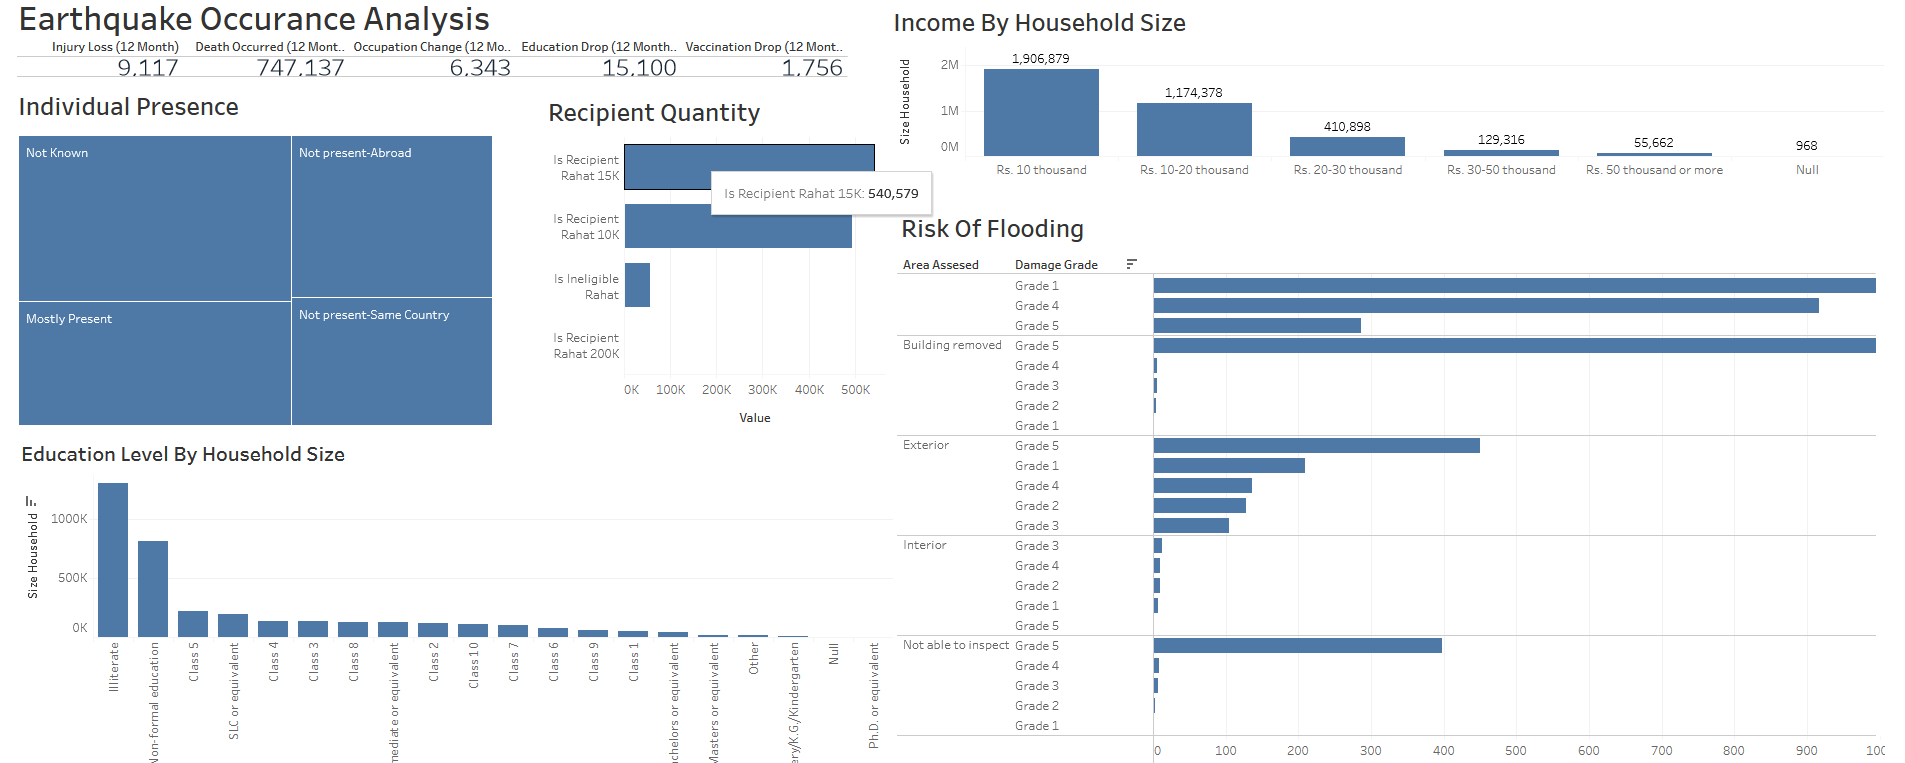

The page's visual inventory and layout, read from the dashboard file:
{"tool":"tableau","page":{"name":"Dashboard 1","canvas":[1000,1000],"units":"permille","ordinal":0},"visuals":[{"type":"worksheet","title":"Sheet 2","mark":"Automatic","rows":["size_household"],"cols":["income_level_household"],"box":[466.2,4.5,528.5,246.7]},{"type":"title","box":[3.2,5.6,371.7,46.9]},{"type":"worksheet","title":"Sheet 5","mark":"Automatic","box":[2.6,52.5,457.8,65.8]},{"type":"worksheet","title":"Sheet 4","mark":"Automatic","box":[1.1,109.4,280.4,431.9]},{"type":"worksheet","title":"Sheet 6","mark":"Automatic","box":[282.5,116.1,182.2,426.3]},{"type":"worksheet","title":"Sheet 3","mark":"Automatic","rows":["area_assesed","damage_grade"],"cols":["has_geotechnical_risk_flood"],"box":[470.4,261.2,524.8,741.1]},{"type":"worksheet","title":"Sheet 1","mark":"Automatic","rows":["size_household"],"cols":["education_level_household_head"],"box":[2.6,543.5,465.7,453.1]}]}

Visuals, with their boxes on the dashboard's canvas, which has no fixed pixel size, in thousandths of its width and height (x1, y1, x2, y2). These are canvas units, not pixel positions in the 1905x763 screenshot, which may show the page scaled, cropped or inside an application window:
"Sheet 2" worksheet: bbox(466, 4, 995, 251)
title: bbox(3, 6, 375, 52)
"Sheet 5" worksheet: bbox(3, 52, 460, 118)
"Sheet 4" worksheet: bbox(1, 109, 282, 541)
"Sheet 6" worksheet: bbox(282, 116, 465, 542)
"Sheet 3" worksheet: bbox(470, 261, 995, 1002)
"Sheet 1" worksheet: bbox(3, 544, 468, 997)
